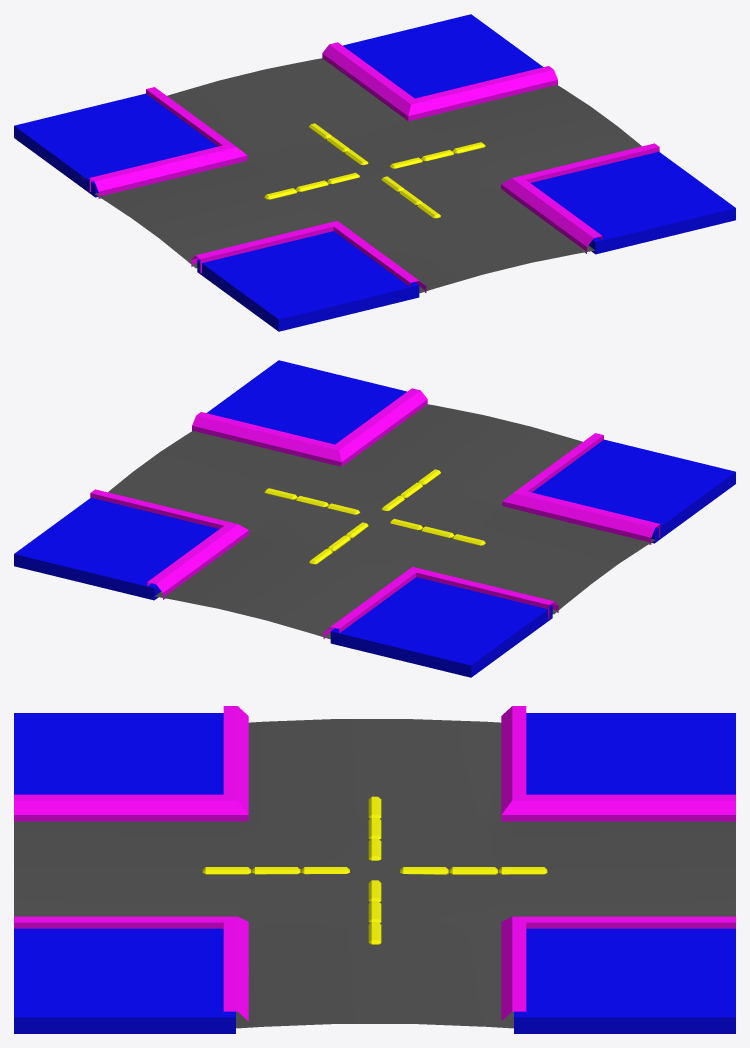
Rendered from SM_Croisement_4_voies.fbx.
The picture shows the model from 3 angles, top to bottom: view 1: azimuth 30°, elevation 25°; view 2: azimuth 150°, elevation 25°; view 3: azimuth 270°, elevation 25°; orthographic projection. The views are drawn at different scales.
Visible parts, largest first — view 1: SM_Croisement_4_voies; view 2: SM_Croisement_4_voies; view 3: SM_Croisement_4_voies.
Part boxes in pixels (bbox=[...]): SM_Croisement_4_voies: bbox=[14, 14, 735, 331]; SM_Croisement_4_voies: bbox=[14, 360, 735, 677]; SM_Croisement_4_voies: bbox=[14, 706, 735, 1033].
Bounding box in the file's own units: 1302 × 45.19 × 1300.
